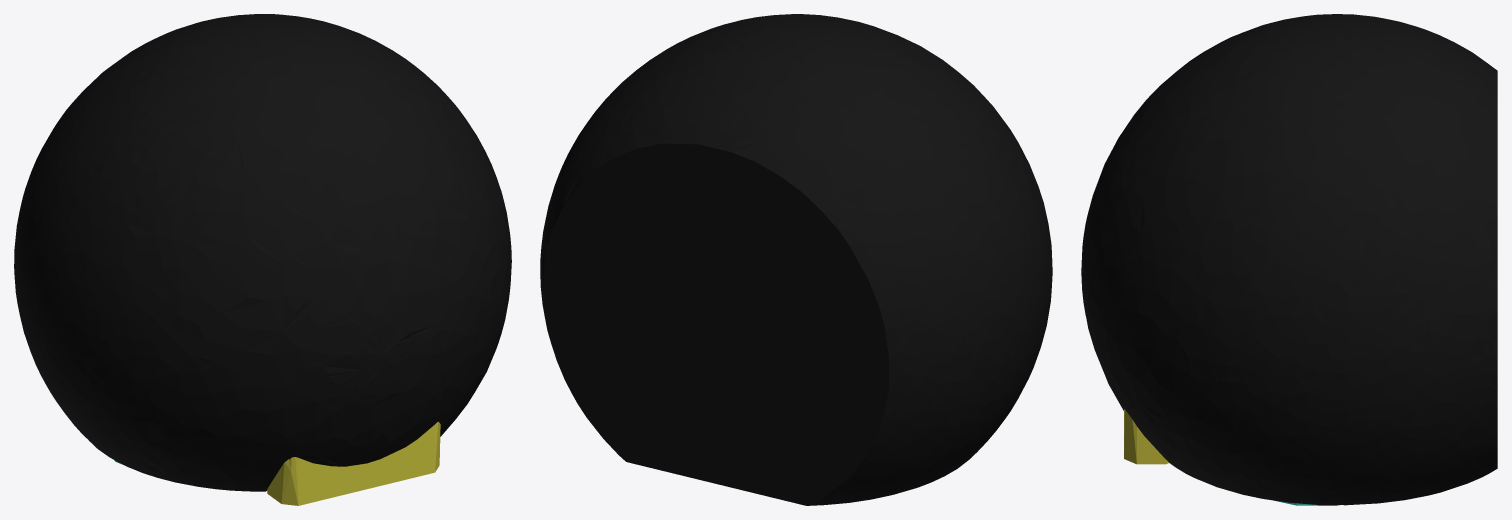
File: head_collision.obj
3 views of the same model, side by side, from view 1: azimuth 30°, elevation 25°; view 2: azimuth 150°, elevation 25°; view 3: azimuth 270°, elevation 25° (orthographic). The views are drawn at different scales.
Visible parts, largest first — view 1: Body1:2, Body1:1; view 2: Body1:2; view 3: Body1:2, Body1:1.
Part boxes in pixels (x1,y1,x2,y2): Body1:2: (14,14,511,491); Body1:1: (267,421,440,505); Body1:2: (540,14,1052,505); Body1:2: (1081,14,1497,505); Body1:1: (1124,409,1168,464).
Bounding box in the file's own units: 29.98 × 25.2 × 24.37.
